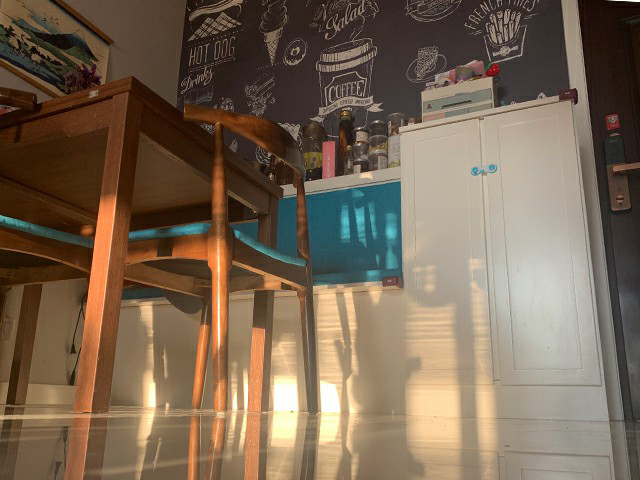cabinet: (397, 87, 610, 422)
stool: (124, 102, 321, 415)
table: (1, 74, 283, 413)
